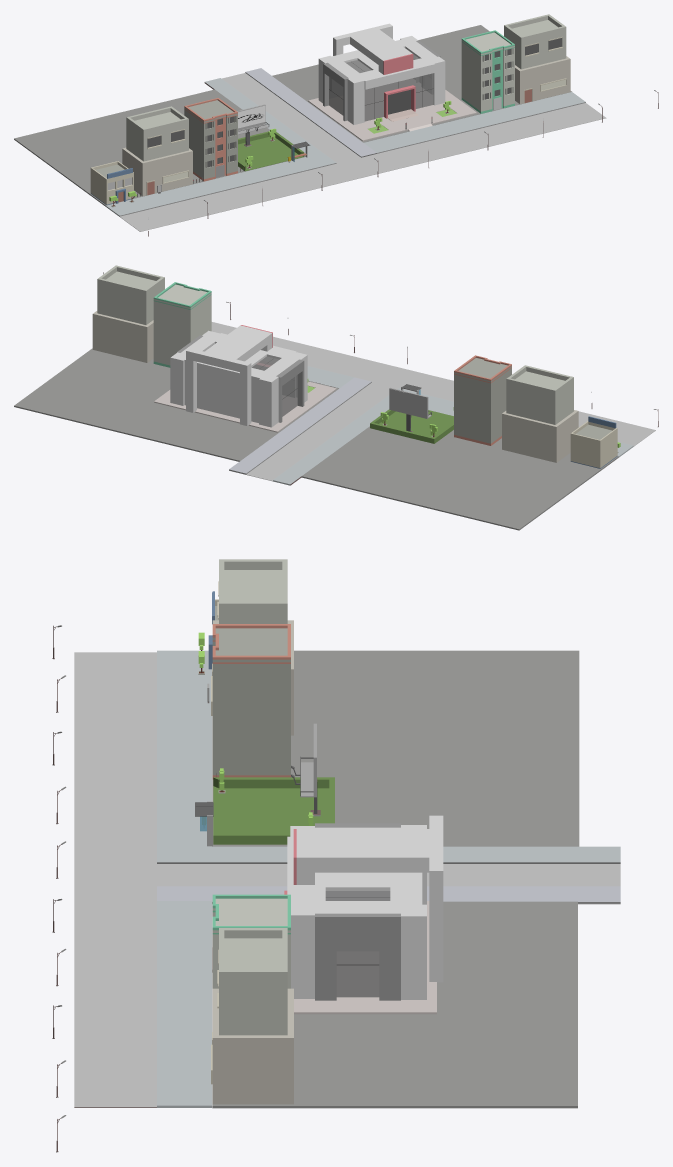
File: Ciudad.fbx
The picture shows the model from 3 angles, top to bottom: view 1: azimuth 30°, elevation 25°; view 2: azimuth 150°, elevation 25°; view 3: azimuth 270°, elevation 25°; orthographic projection. The views are drawn at different scales.
Parts seen in each view (by area): view 1: pasted__Edificio1, Carretera2, Carretera5, Carretera1, Piso2, Edificio_2, Edificio_4, pasted__Edificio_3, pasted__Piso1, Edificio_1, Piso3, Piso1 (+2 smaller); view 2: Piso2, Piso3, pasted__Edificio1, Carretera1, Edificio_2, Edificio_4, Edificio_1, pasted__Edificio_3, Carretera2, Carretera5, Tienda_1, Piso1 (+2 smaller); view 3: Piso2, Piso3, Carretera2, Carretera5, pasted__Edificio1, Carretera1, Edificio_4, Edificio_1, Piso1, Edificio_2, pasted__Piso1, pasted__Edificio_3 (+1 smaller).
Boxes of the visible parts, x1,y1,x2,y2 form: pasted__Edificio1: (318,23,445,124); Carretera2: (105,154,397,231); Carretera5: (363,92,606,168); Carretera1: (204,68,377,167); Piso2: (14,89,305,206); Edificio_2: (122,106,192,196); Edificio_4: (504,14,570,104); pasted__Edificio_3: (461,30,514,113); pasted__Piso1: (308,79,476,141); Edificio_1: (184,98,237,181); Piso3: (272,25,571,142); Piso1: (238,131,304,171); Piso2: (301,426,618,530); Piso3: (14,348,338,461); pasted__Edificio1: (170,325,307,427); Carretera1: (229,377,415,485); Edificio_2: (502,365,578,462); Edificio_4: (92,265,164,362); Edificio_1: (454,355,511,445); pasted__Edificio_3: (153,282,211,367); Carretera2: (356,362,655,457); Carretera5: (211,322,377,388); Tienda_1: (570,416,617,468); Piso1: (370,409,453,443); Piso2: (212,650,579,846); Piso3: (212,901,577,1108); Carretera2: (74,650,211,902); Carretera5: (74,901,211,1107); pasted__Edificio1: (284,815,443,1000); Carretera1: (157,846,620,904); Edificio_4: (211,928,293,1104); Edificio_1: (212,624,290,779); Piso1: (213,777,334,844); Edificio_2: (211,559,293,735); pasted__Piso1: (212,901,436,1014); pasted__Edificio_3: (212,894,290,988).
Size of the model in its own units: 173 by 21.67 by 82.71.
